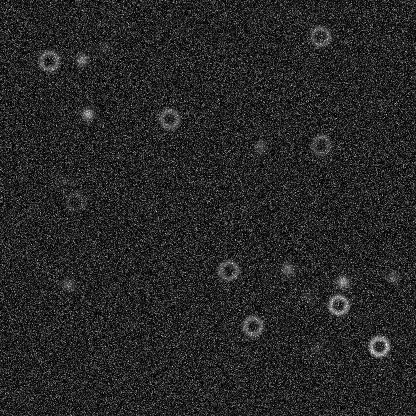Ring: (326, 292, 350, 316), (240, 313, 264, 337), (36, 48, 60, 72), (308, 132, 332, 156), (216, 258, 240, 282), (63, 189, 87, 213), (366, 334, 390, 358), (308, 24, 332, 48), (157, 106, 181, 130)
Spot: (308, 340, 324, 356), (95, 40, 111, 56), (252, 137, 268, 153), (60, 276, 76, 292), (279, 260, 295, 276), (55, 171, 71, 187), (298, 287, 314, 303), (384, 269, 400, 285), (79, 105, 95, 121), (334, 273, 350, 289), (74, 51, 90, 67)
